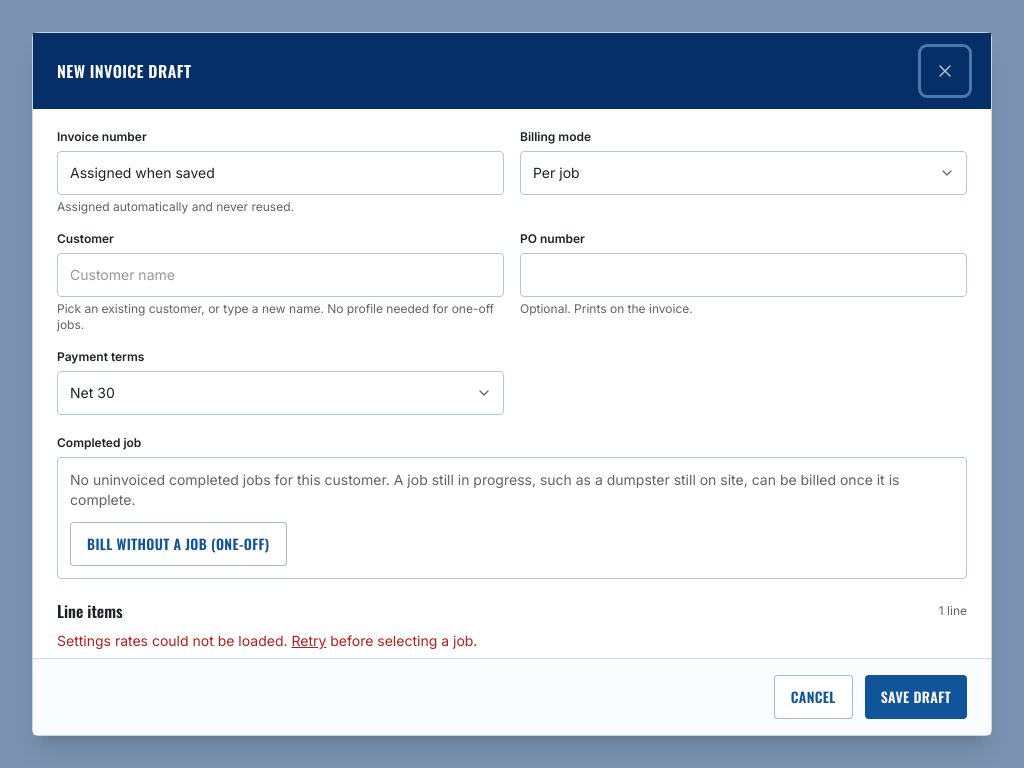
InvoiceModal — multi-job statement › blocks job selection when the rate catalog fails to load
This screenshot has width=1024, height=768.
Type "Vegas GC" into the field labelled "Customer" at (280, 275), box x1=57 y1=253 x2=504 y2=297
(page scrolled)
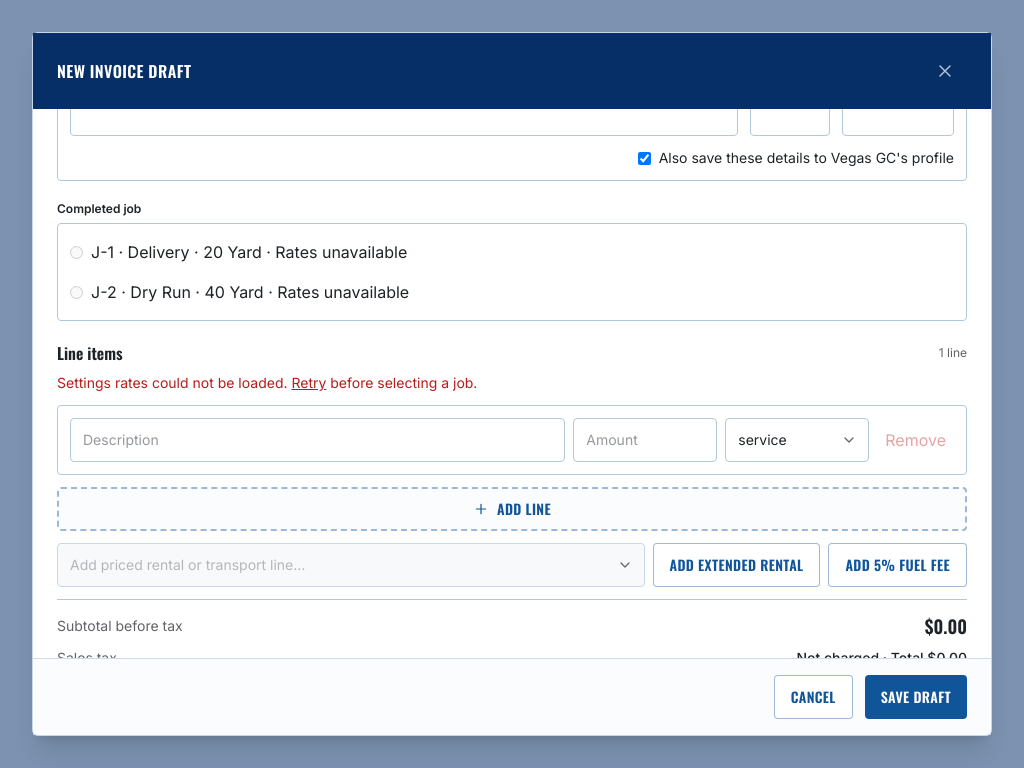
Expected: the message shows "rates could not be loaded", x1=57 y1=374 x2=291 y2=391
Expected: the radio button labelled "J-1 · Delivery · 20 Yard · Rates unavailable" is disabled, x1=70 y1=246 x2=83 y2=258
